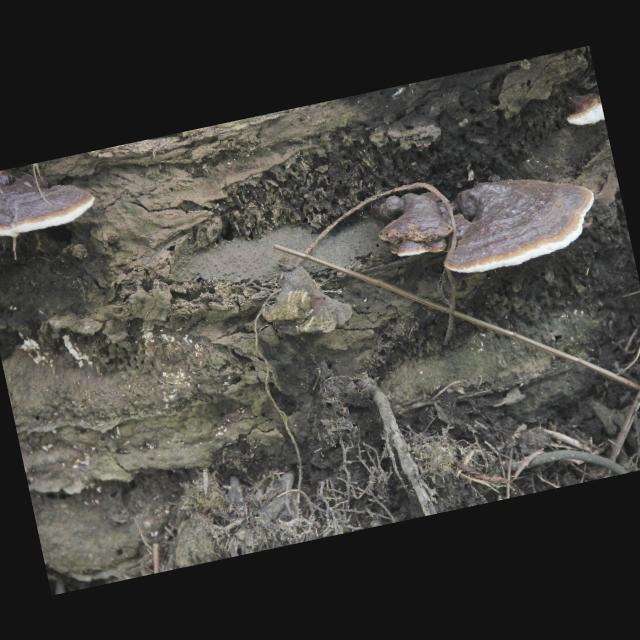ganoderma: (430, 161, 606, 282), (1, 153, 100, 246), (370, 184, 460, 265), (563, 92, 606, 130)
